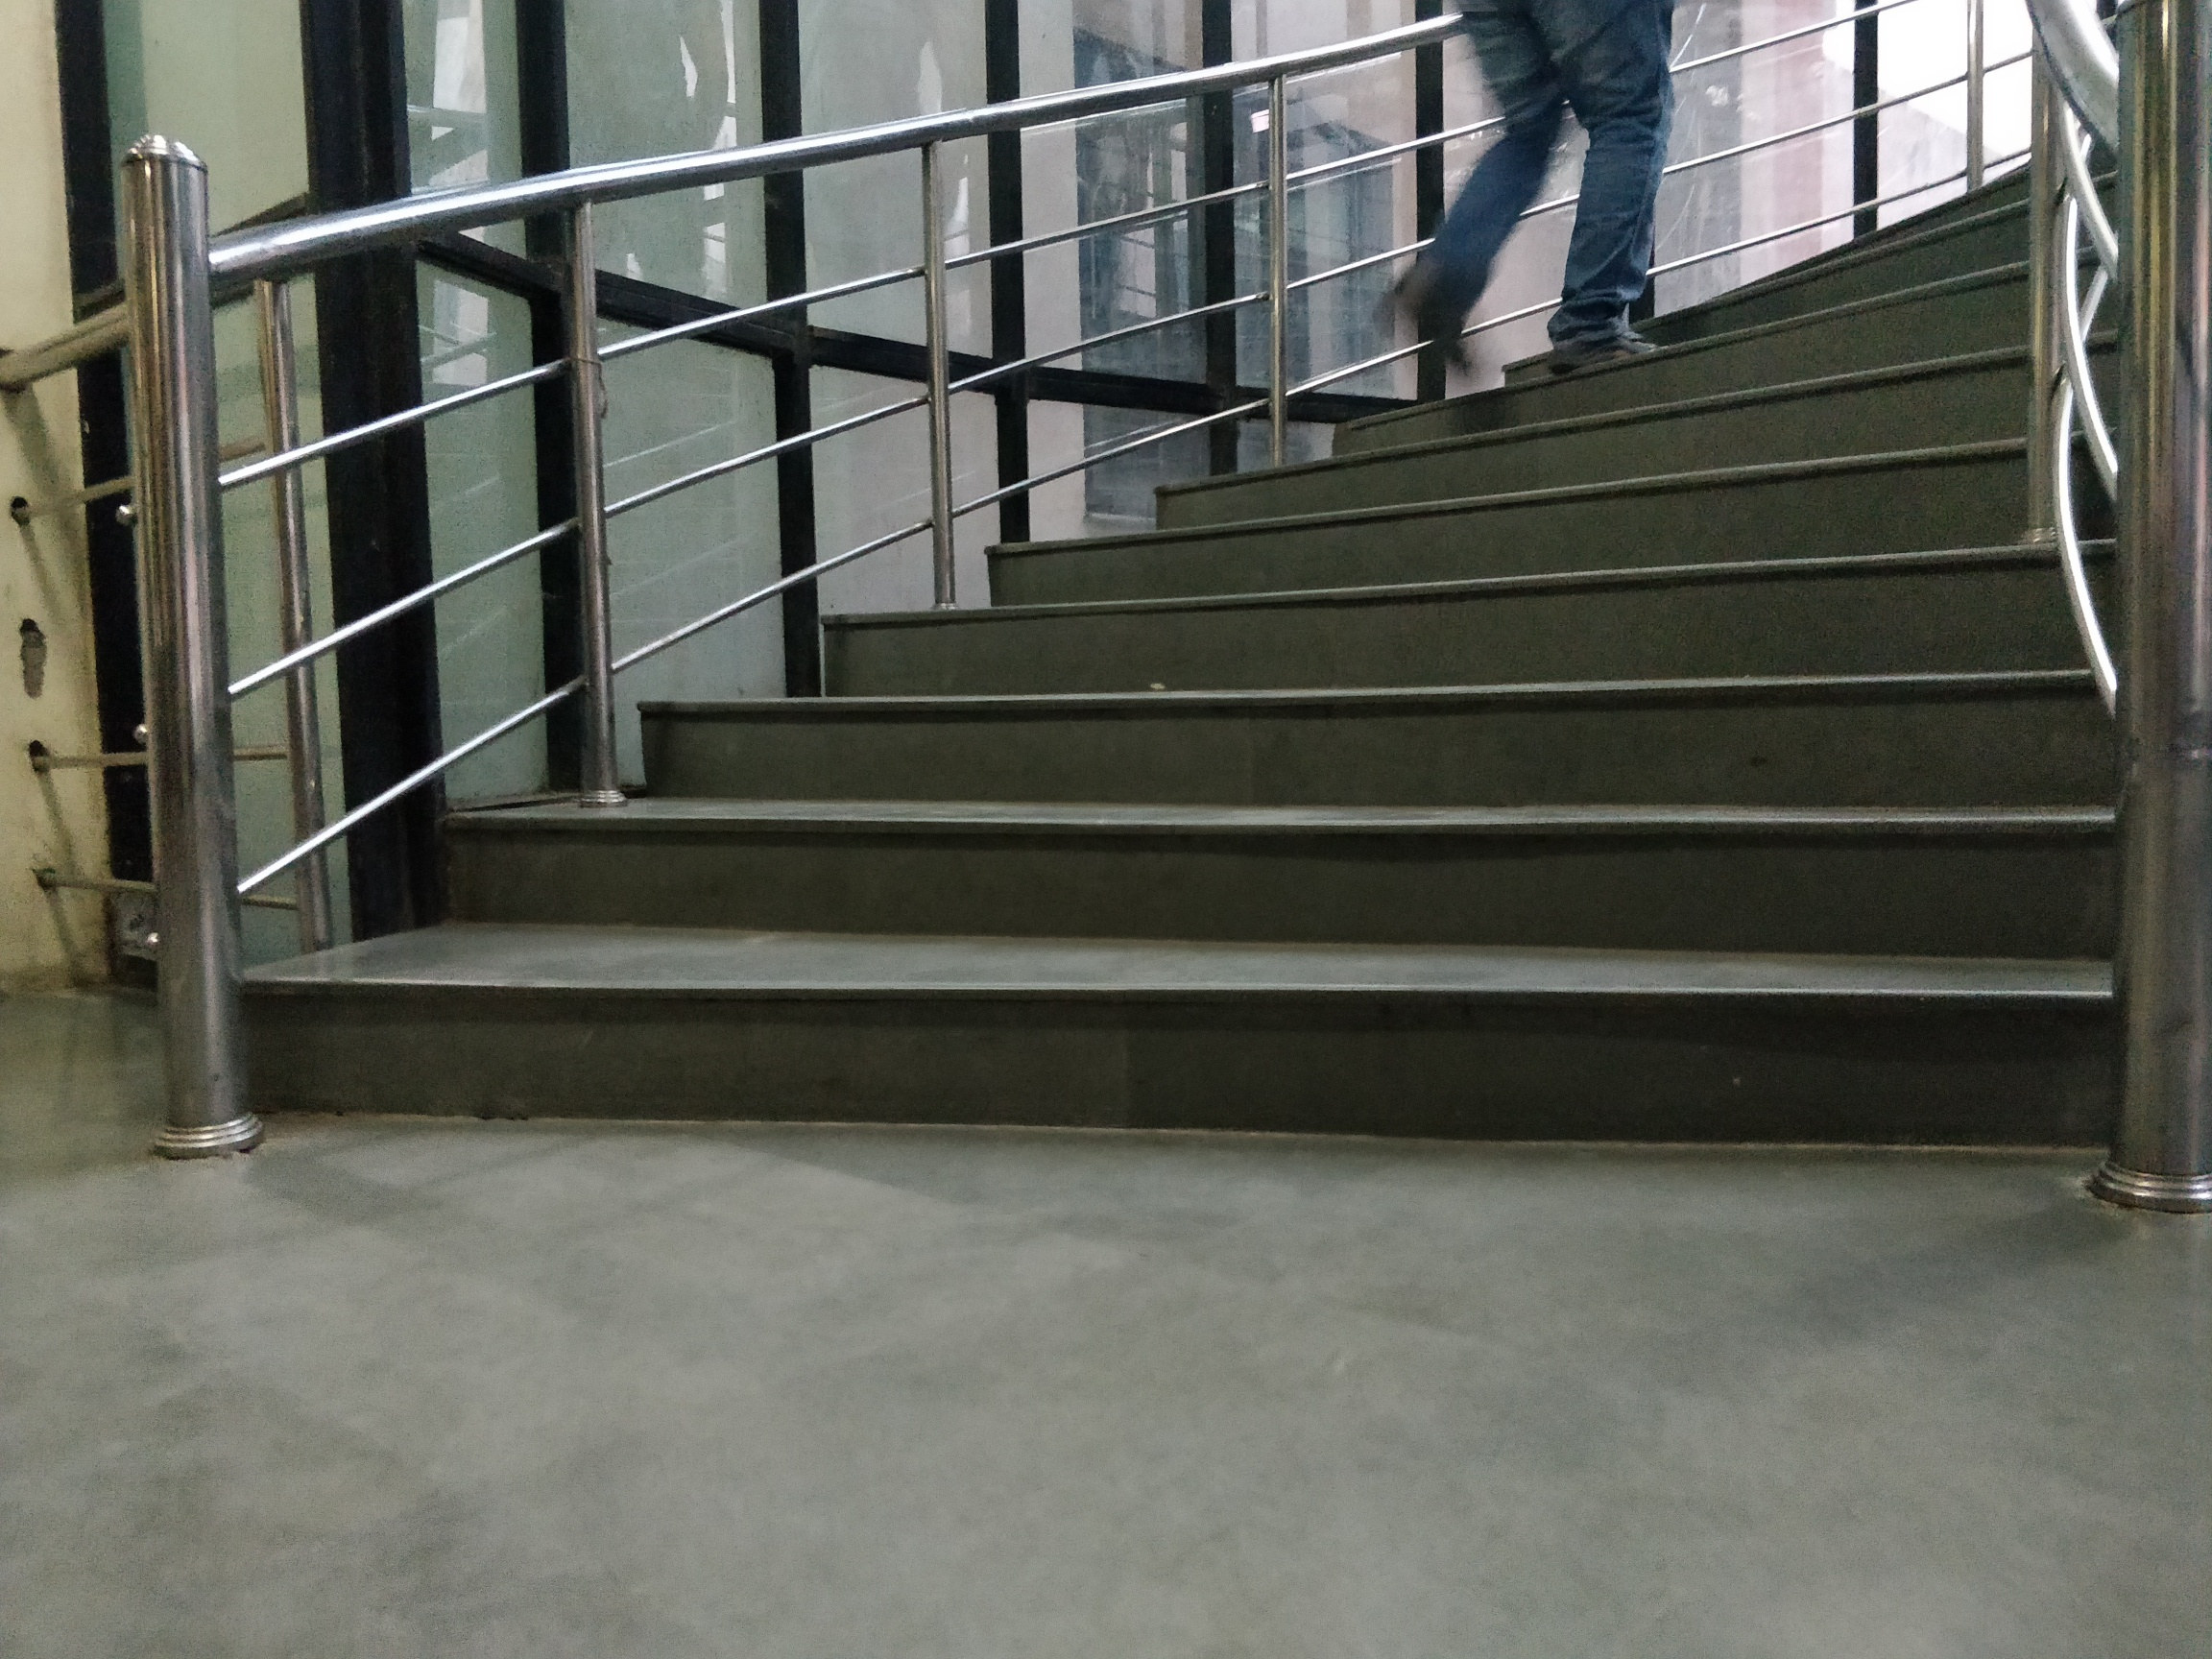stairs_up: (169, 185, 2097, 1225)
